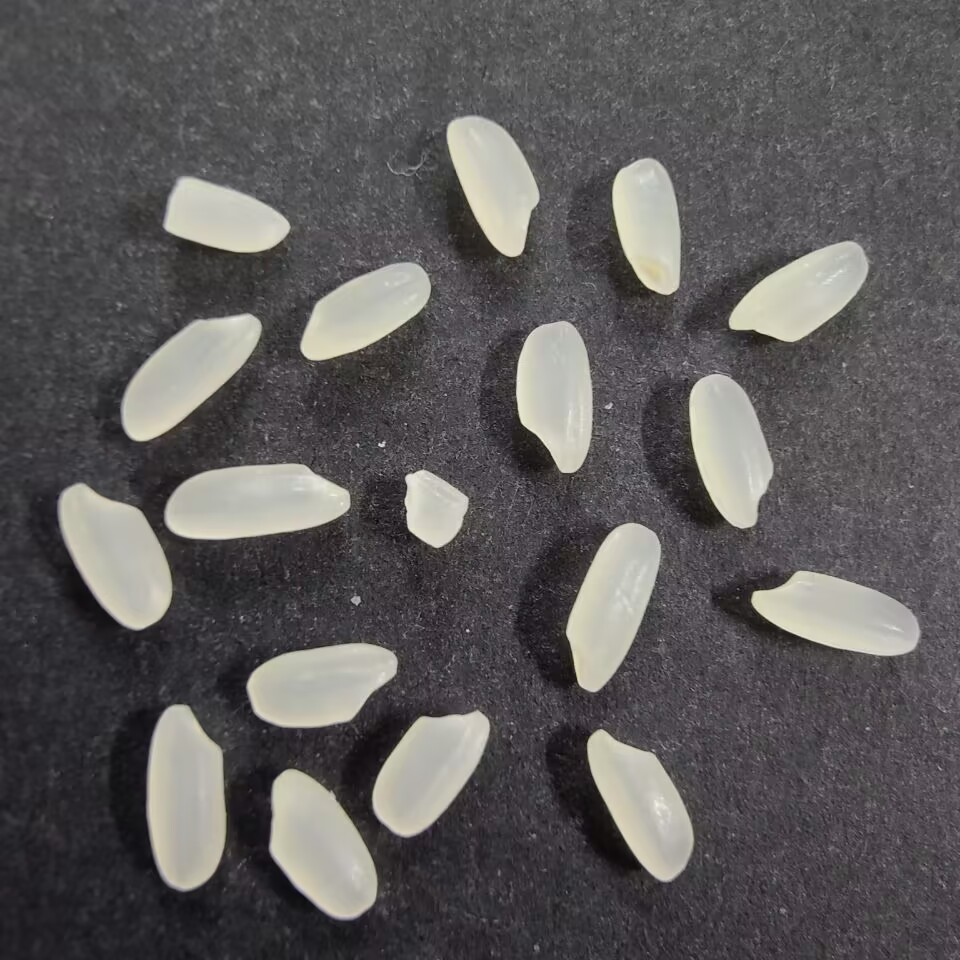broken: (160, 172, 294, 257), (400, 464, 472, 553)
rice: (118, 312, 263, 444), (264, 767, 384, 924), (53, 479, 172, 637), (582, 725, 697, 884), (561, 519, 664, 694), (747, 565, 928, 658), (141, 701, 228, 893), (370, 706, 492, 840), (724, 236, 871, 345), (162, 458, 354, 541), (443, 114, 545, 263), (293, 259, 433, 363), (688, 373, 776, 532), (245, 640, 402, 727), (511, 318, 598, 473), (609, 155, 684, 297)
